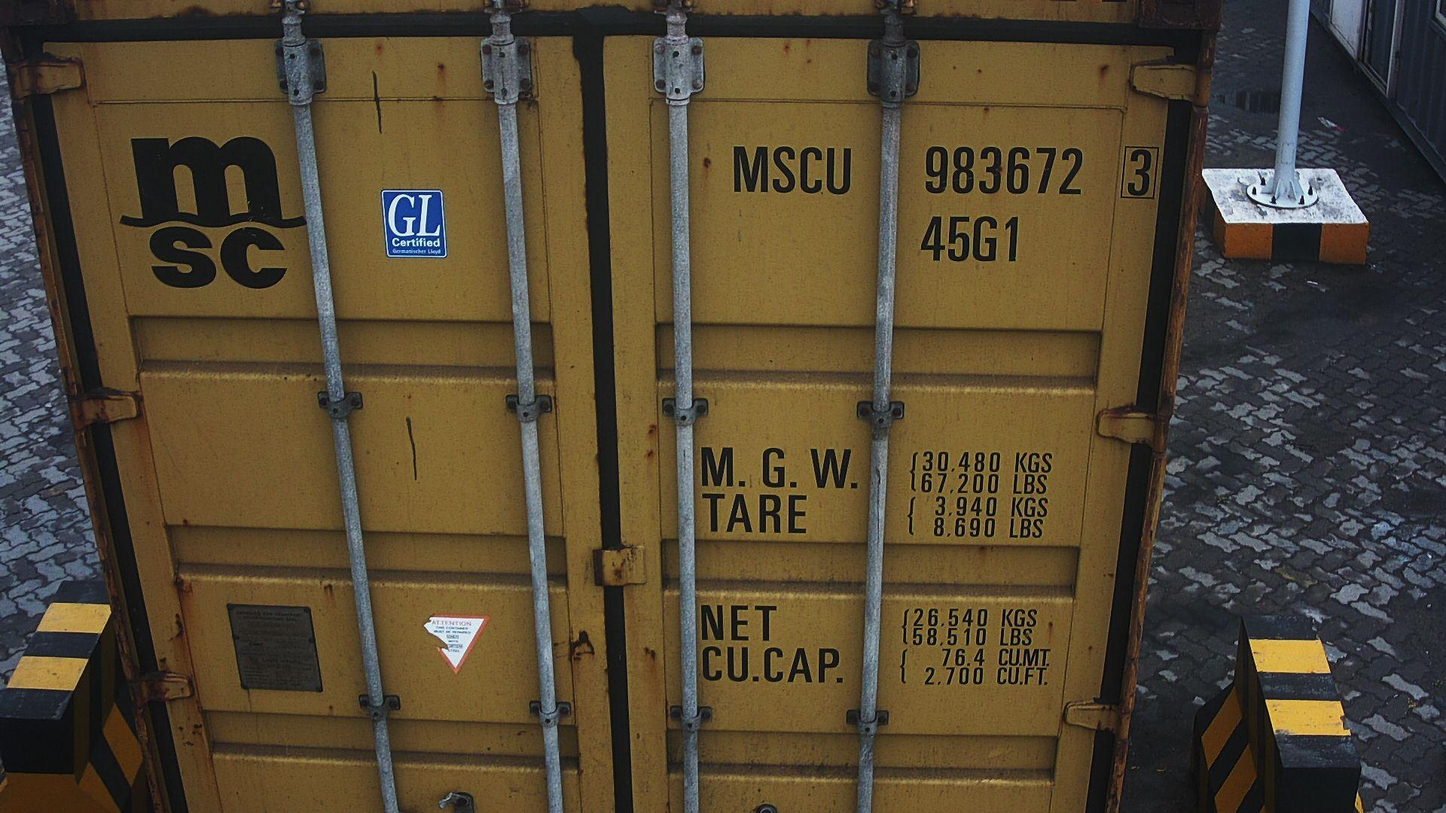container-numbers: (725, 139, 1164, 206), (918, 212, 1026, 268)
